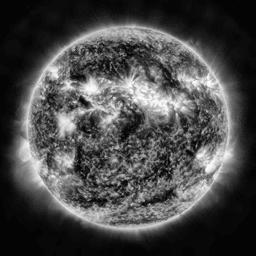solar flares: (141, 85, 173, 117), (53, 110, 77, 138), (196, 148, 221, 172), (115, 72, 136, 93), (179, 74, 208, 89), (81, 82, 105, 100), (52, 153, 72, 165), (175, 95, 189, 112), (101, 107, 112, 127)
sunspots: (118, 113, 139, 139), (92, 63, 131, 77), (76, 144, 93, 176), (143, 186, 174, 202), (73, 192, 102, 208), (70, 67, 96, 84), (116, 42, 139, 61), (78, 112, 97, 133), (189, 125, 205, 147), (157, 66, 176, 84), (159, 149, 171, 173), (47, 91, 63, 106), (116, 180, 134, 193), (181, 118, 192, 134)
